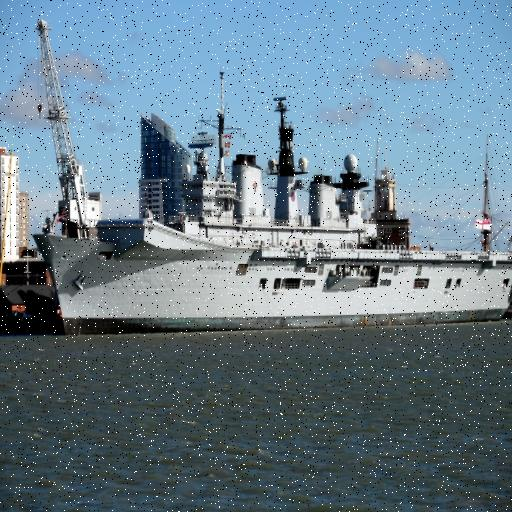Portanaves: (33, 92, 512, 337)
